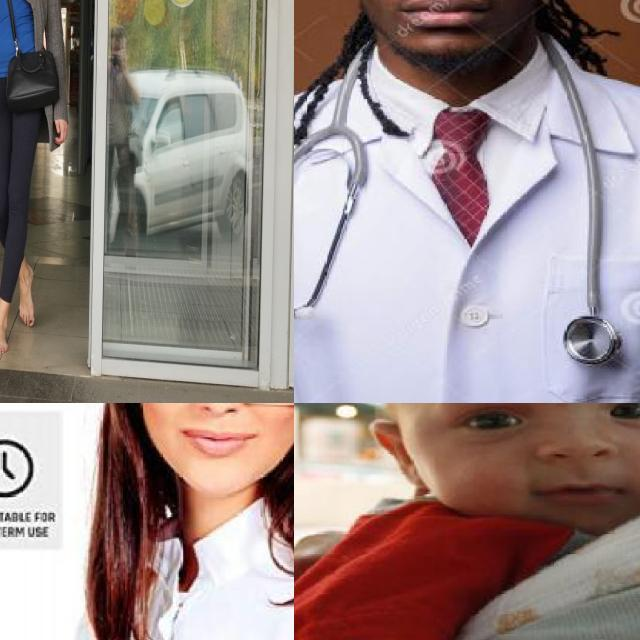Barefoots: (19, 263, 34, 327), (0, 319, 8, 354)
No_Ear-Protection: (358, 413, 440, 500)
No_Glasses: (422, 403, 640, 454)
face_nomask: (449, 403, 640, 509), (113, 403, 294, 467), (348, 0, 537, 44)
person: (294, 0, 640, 403), (49, 403, 294, 640)
